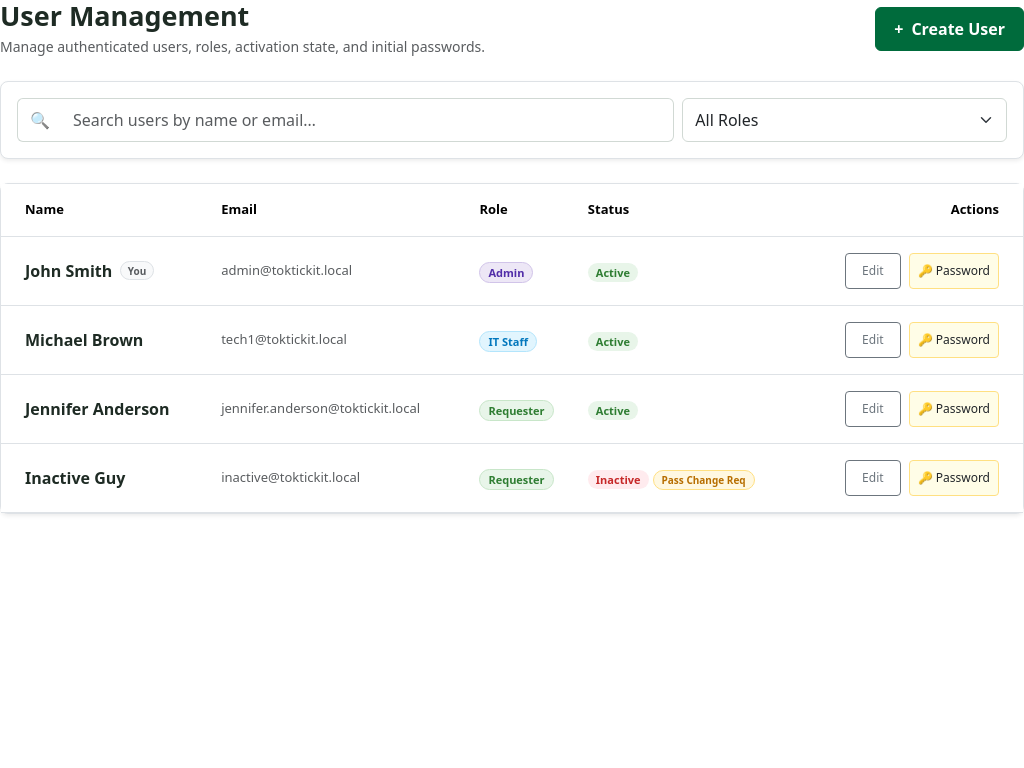
Scenario: UI-05: Administrator User Management UI Component Tests › opens Create User modal and submits new user with single role and initial password
The image size is (1024, 768).
Expected: the text "John Smith" is shown, [25,259,112,283]
Note: Click "+ Create User"
Click the button "+ Create User": (950, 29) [875,7,1023,51]
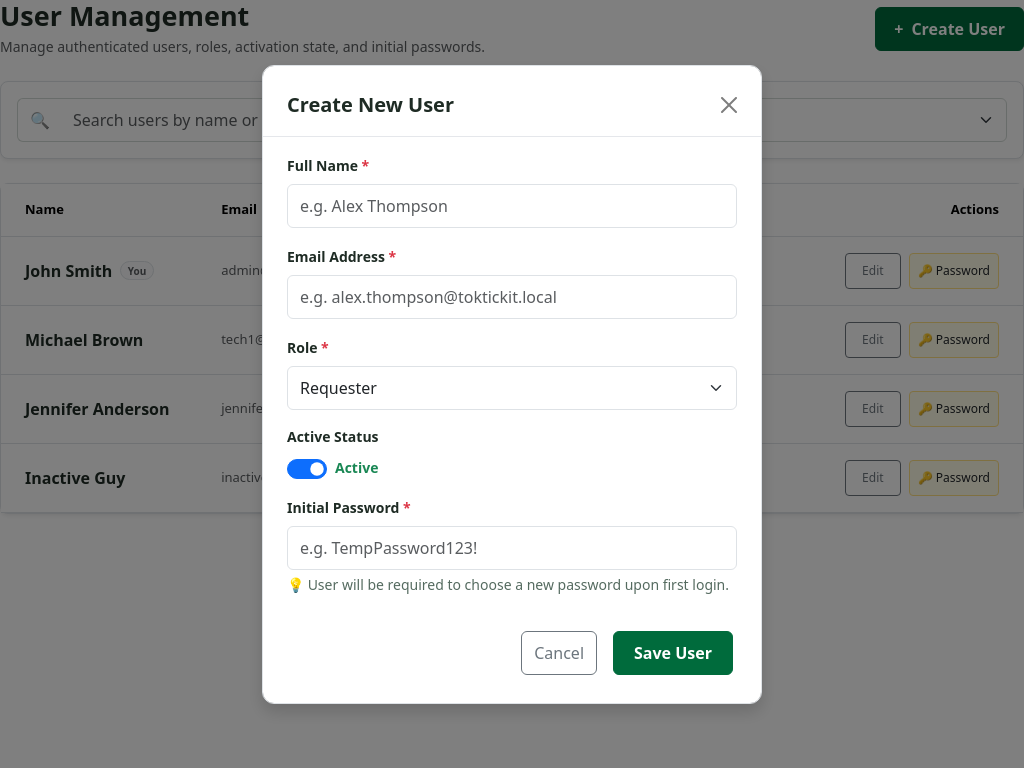
Expected: the heading "Create New User" is shown, [287,90,454,120]
Expected: the text "User will be required to choose a new password" is shown, [287,574,729,594]
Note: Fill form
In the field labelled "Full Name *": (512, 206) [287,184,737,228], type "Alex Thompson"
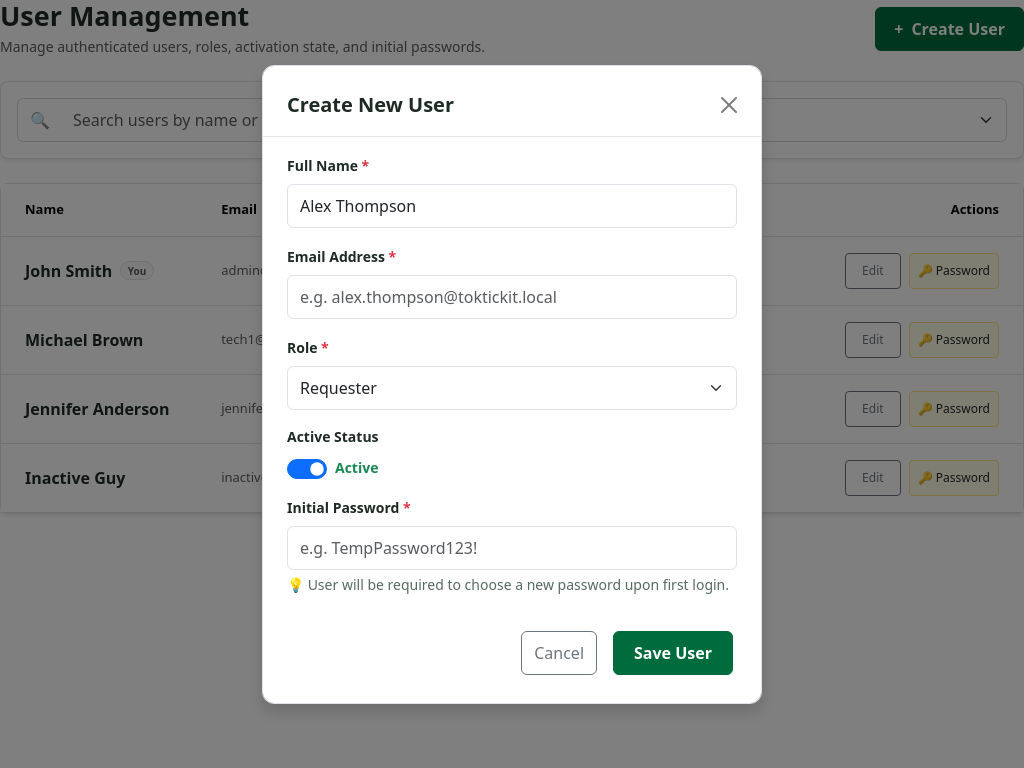
In the field labelled "Email Address *": (512, 296) [287,274,737,318], type "alex.thompson@toktickit.local"
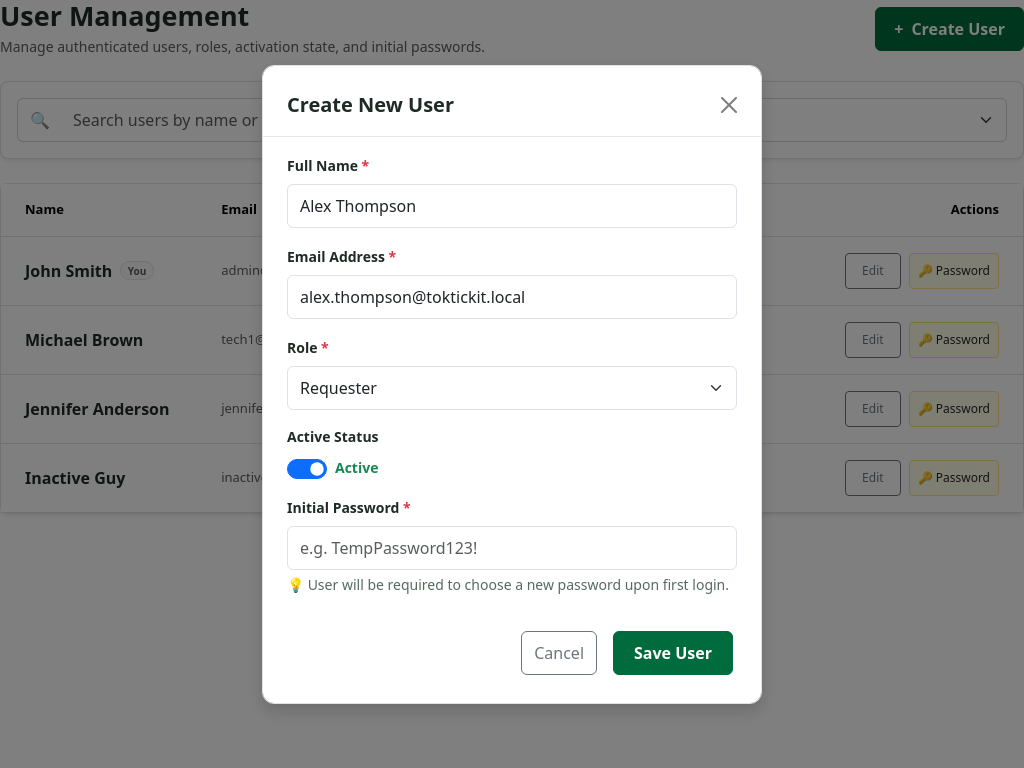
Select "IT Staff" in the dropdown labelled "Role *": (512, 388) [287,366,737,410]
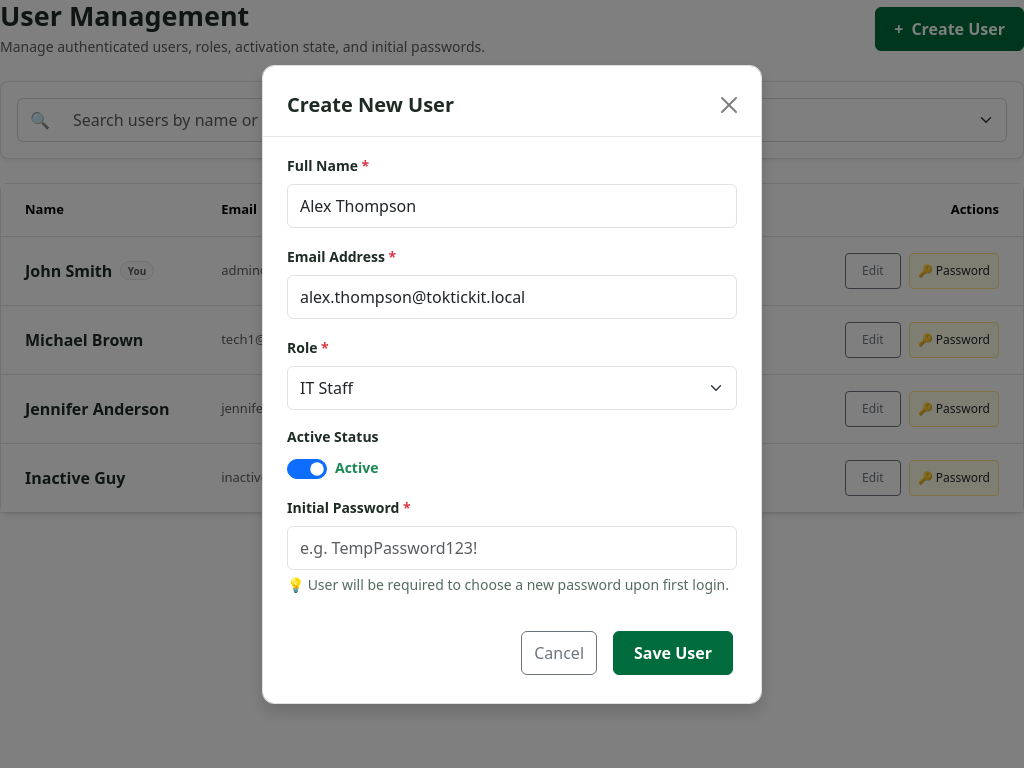
In the field labelled "Initial Password *": (512, 548) [287,526,737,570], type "TempPassword123!"
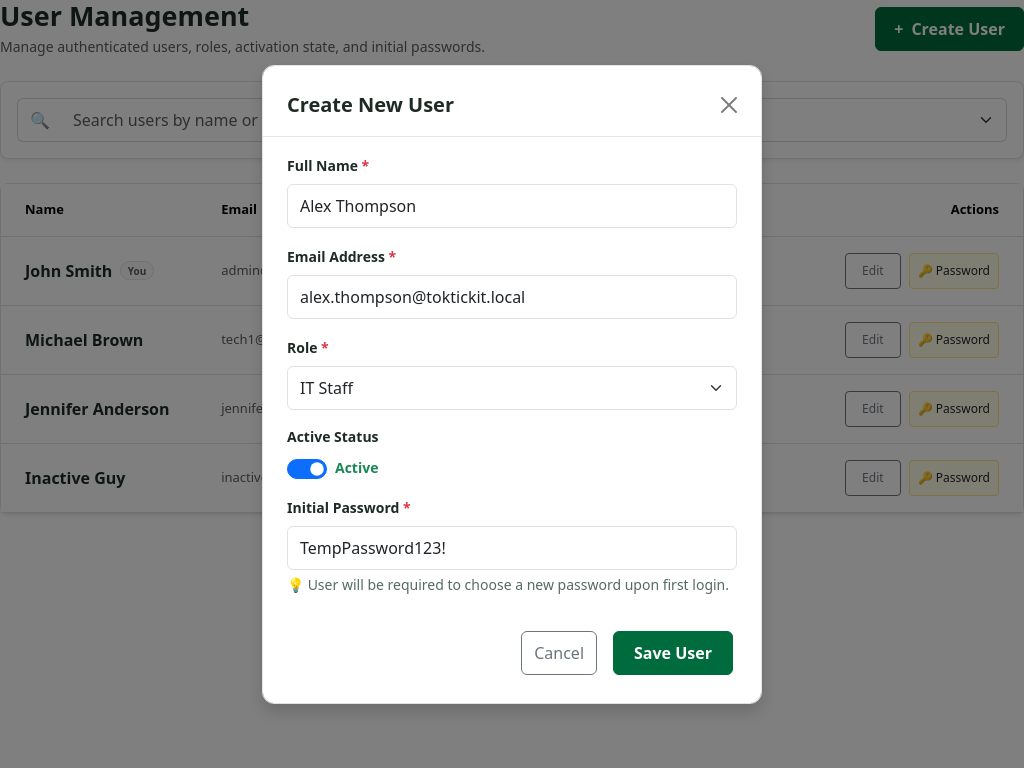
Click the button "Save User": (673, 652) [613,630,733,674]
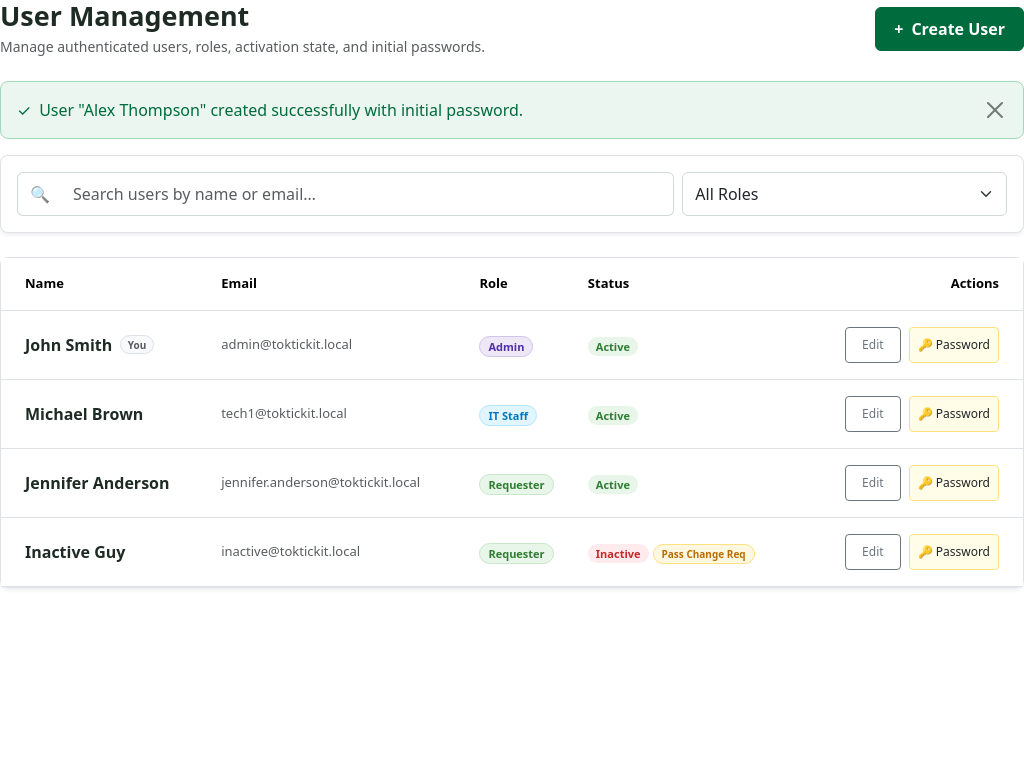
Expected: the text "created successfully with initial password" is shown, [39,99,523,121]
